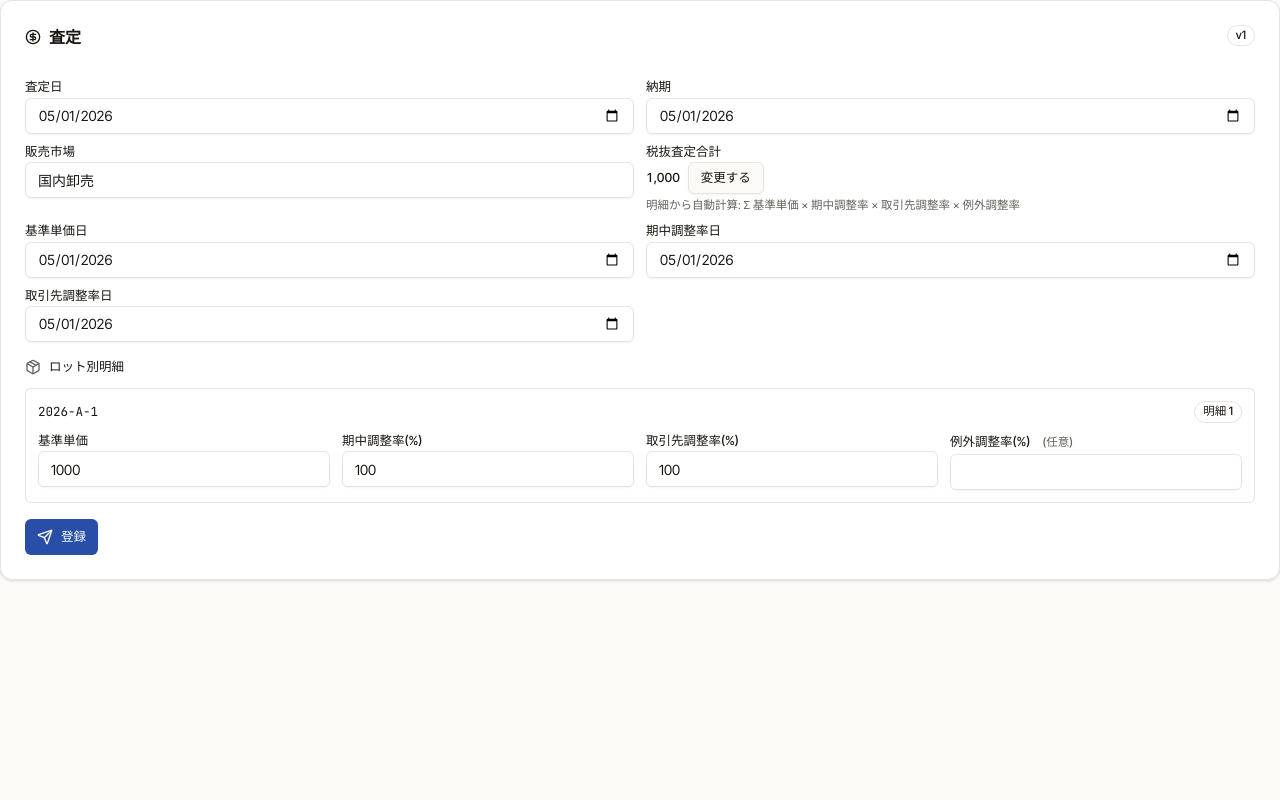
Test: DirectAppraisalForm (FE-COMP-RICH-DA-*) › FE-COMP-RICH-DA-005: 「変更する」→ 承認 → total input enabled、承認者は read-only `営業部長（システム既定）`
Click the button "変更する" at {"x": 726, "y": 178}, box [688,162,764,194]
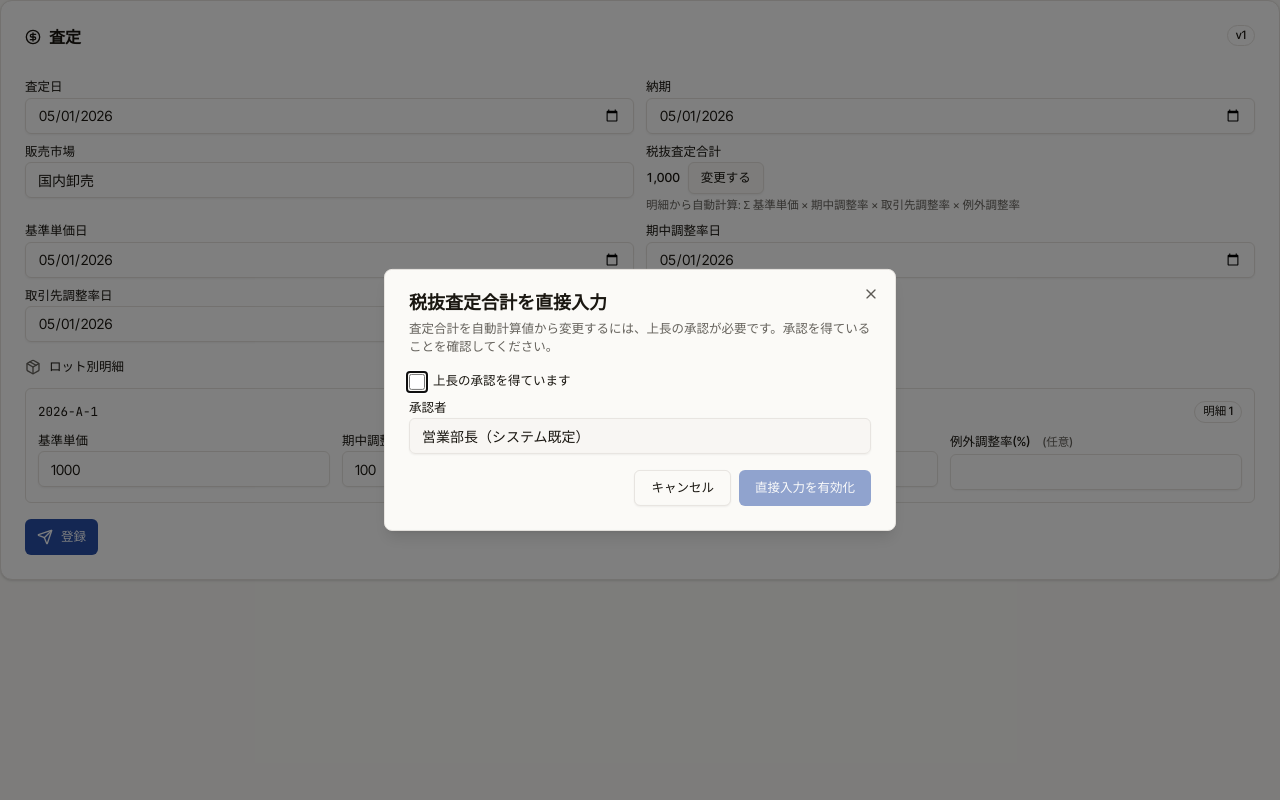
Result: the dialog is shown at [384,269,896,531]
Result: the field labelled "承認者" holds "営業部長（システム既定）" at [409,418,871,454]
Result: the button "直接入力を有効化" is disabled at [739,470,871,506]
Click the checkbox at {"x": 417, "y": 382}, box [409,374,425,390]
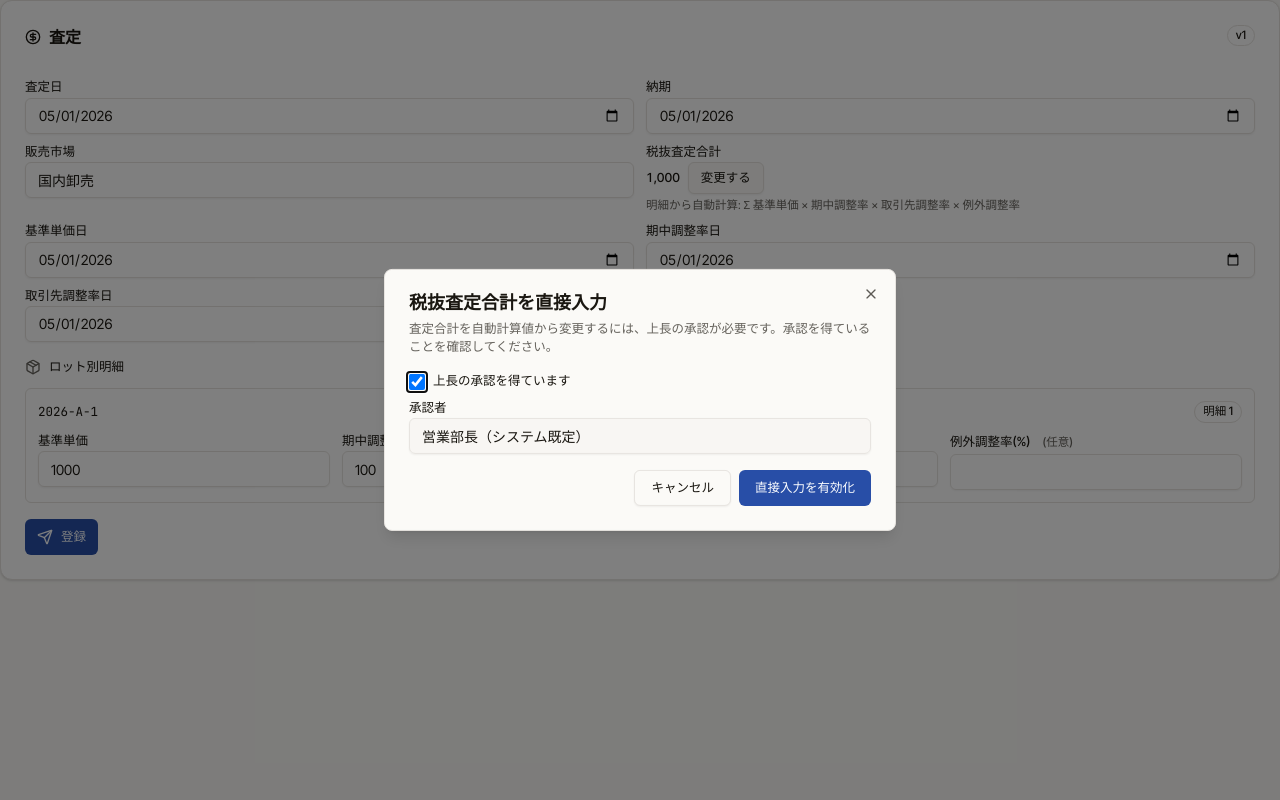
Result: the button "直接入力を有効化" is enabled
Click the button "直接入力を有効化" at {"x": 805, "y": 488}, box [739,470,871,506]
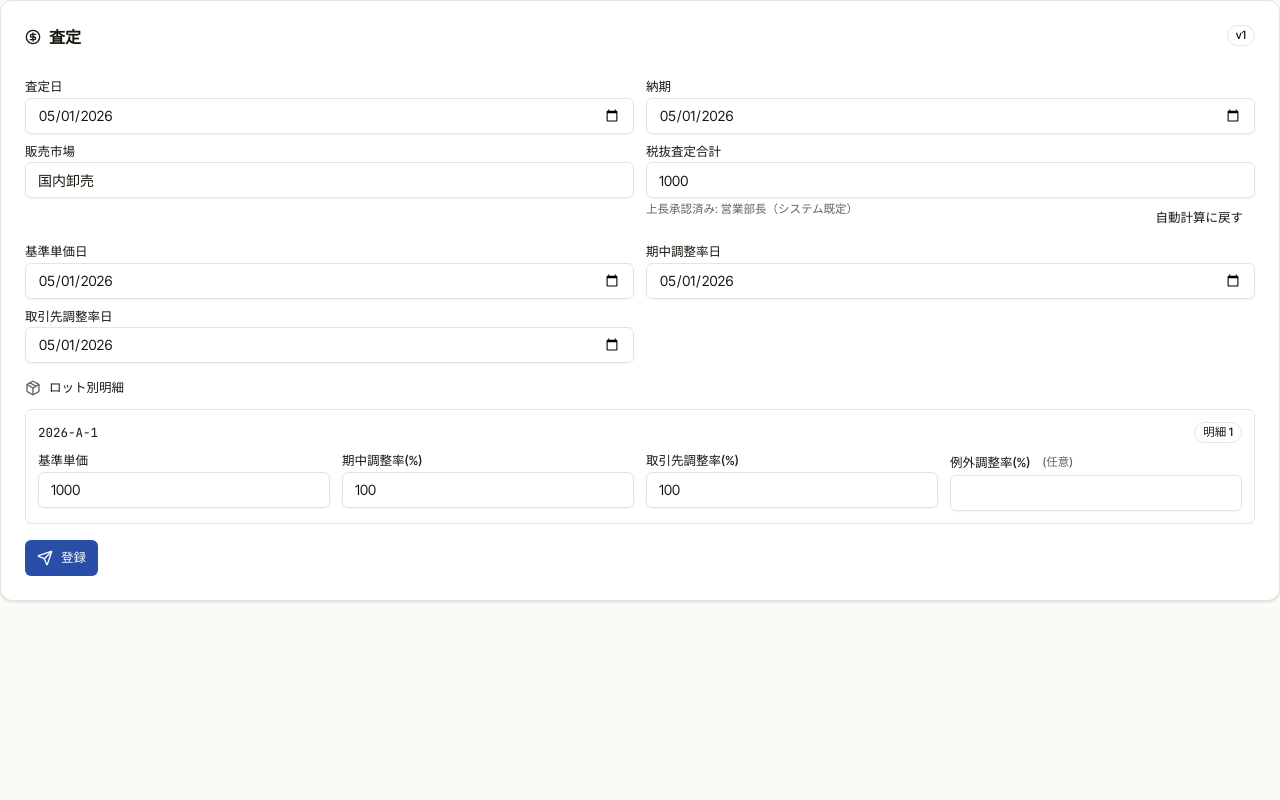
Result: the number field labelled "税抜査定合計" is enabled at [646,162,1255,198]
